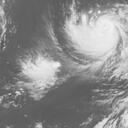cyclone: (63, 12, 120, 60), (20, 57, 59, 89)
